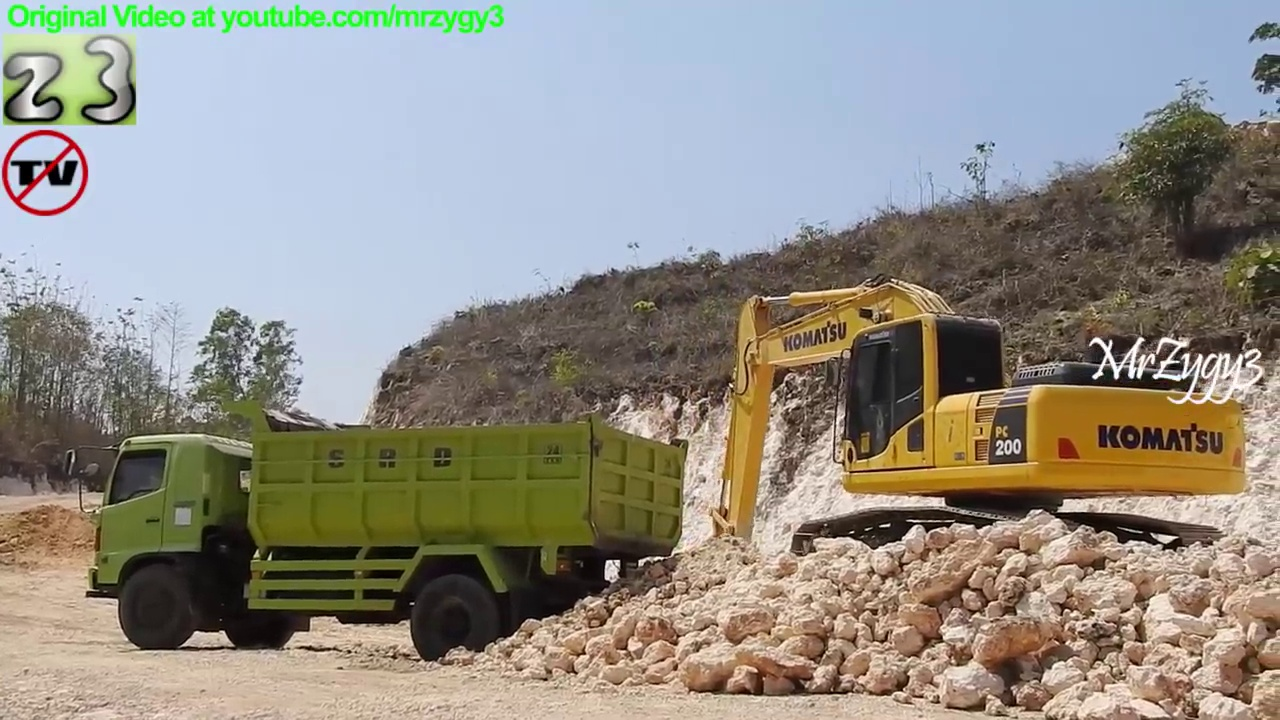excavator: (681, 269, 1258, 613)
truck: (58, 395, 689, 671)
